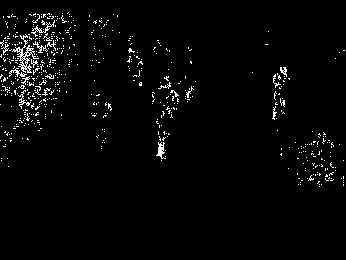person: (149, 76, 182, 171), (265, 59, 296, 129)
